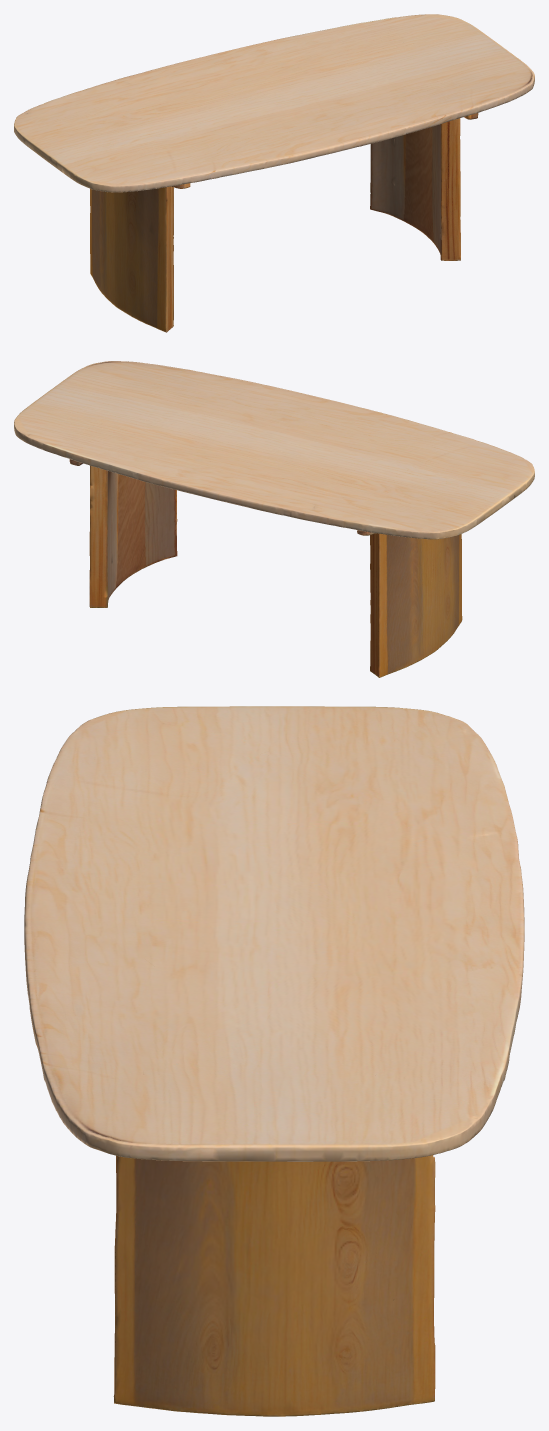
File: Modern_Wooden_Table_0421140251_texture.glb
3 renders of one model, top to bottom at view 1: azimuth 30°, elevation 25°; view 2: azimuth 150°, elevation 25°; view 3: azimuth 270°, elevation 25°, orthographic. The views are drawn at different scales.
Bounding box in the file's own units: 2 × 0.7136 × 0.9599.
Materials: 1 (1 with a texture image).
